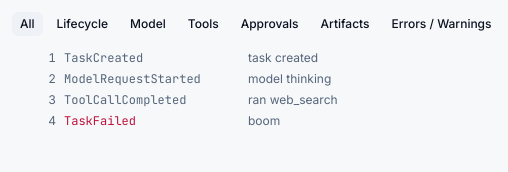
Test: RuntimeTimeline › filters to model-only when Model selected
Step 1. Click the button "Model" → coordinates (148, 24), box [122,12,174,36]
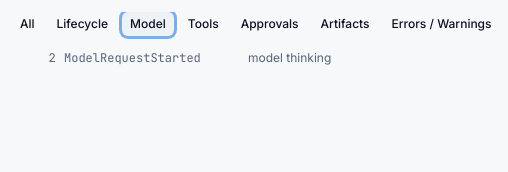
Expected: the text "model thinking" is shown, [248,50,331,66]
Expected: the text "ran web_search" is gone
Expected: the text "task created" is gone
